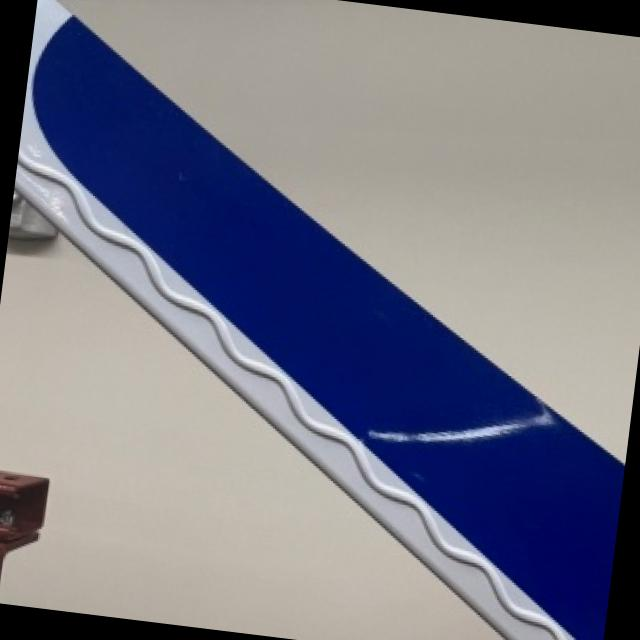healthy: (0, 235, 507, 640)
